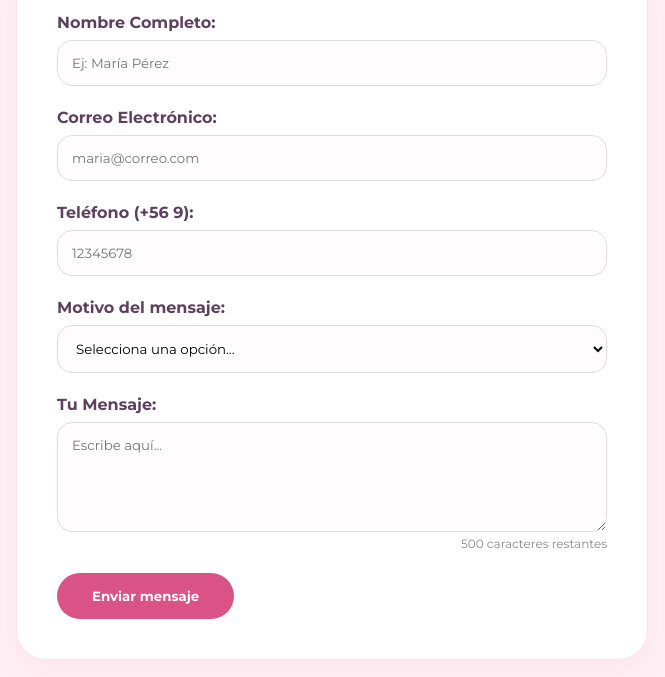
Pruebas de Formulario de Contacto - My Dreams › 3. El contador de caracteres debe mostrar el espacio restante (500 - largo)
(page scrolled)
Type "Hola" into the text box with placeholder "Escribe aquí...". click: (332, 477)
box: [57,422,607,532]
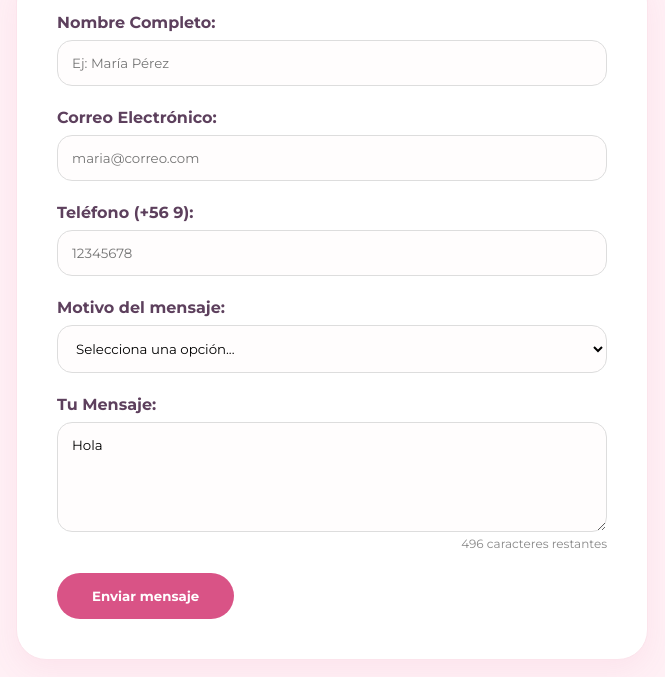
Expected: the text "496 caracteres restantes" is shown, [461,536,607,551]
